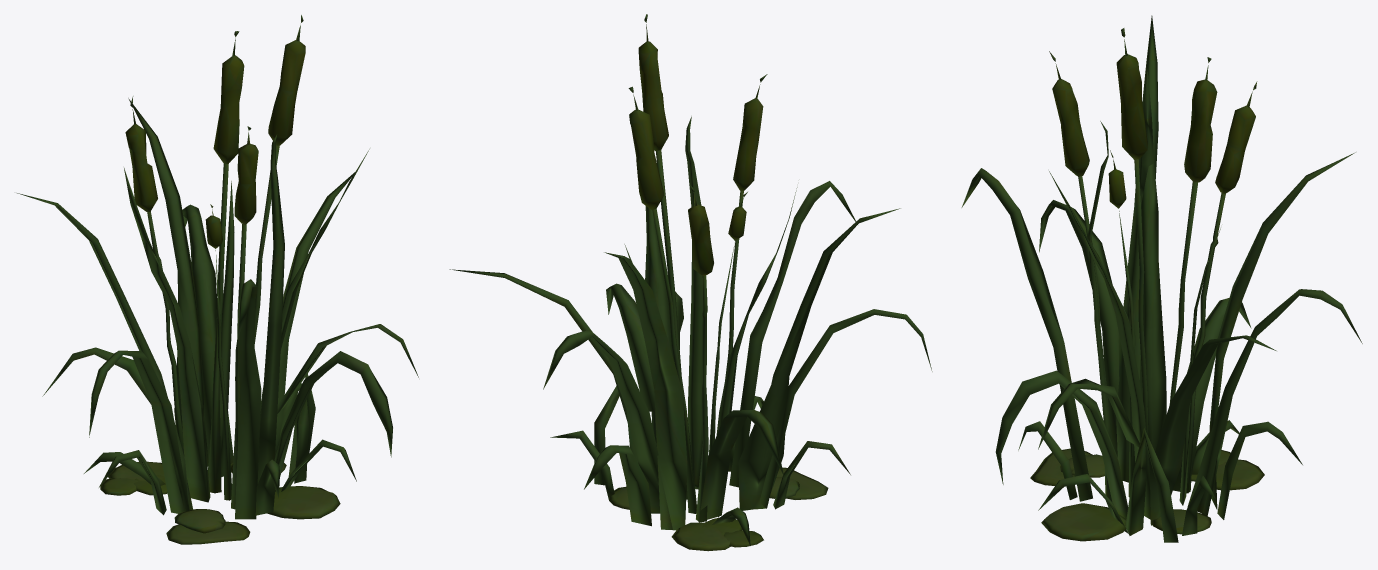
The model's file is marsh_reed_cluster.glb.
3 views of the same model, side by side, from view 1: azimuth 30°, elevation 25°; view 2: azimuth 150°, elevation 25°; view 3: azimuth 270°, elevation 25° (orthographic). The views are drawn at different scales.
Visible parts, largest first — view 1: tripo_node_2a9d403a-7421-4a53-b873-db488210606b; view 2: tripo_node_2a9d403a-7421-4a53-b873-db488210606b; view 3: tripo_node_2a9d403a-7421-4a53-b873-db488210606b.
Boxes of the visible parts, x1,y1,x2,y2 form: tripo_node_2a9d403a-7421-4a53-b873-db488210606b: [17, 15, 418, 544]; tripo_node_2a9d403a-7421-4a53-b873-db488210606b: [449, 14, 932, 551]; tripo_node_2a9d403a-7421-4a53-b873-db488210606b: [961, 15, 1362, 542].
Size of the model in its own units: 1.59 by 1.8 by 1.28.
1 material, 1 textured.
